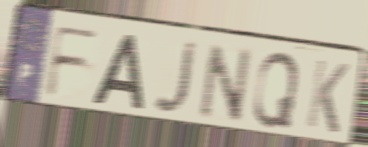A: (90, 32, 146, 111)
F: (42, 23, 103, 99)
J: (151, 39, 200, 116)
K: (303, 56, 352, 137)
N: (197, 40, 254, 124)
Q: (250, 49, 302, 130)
